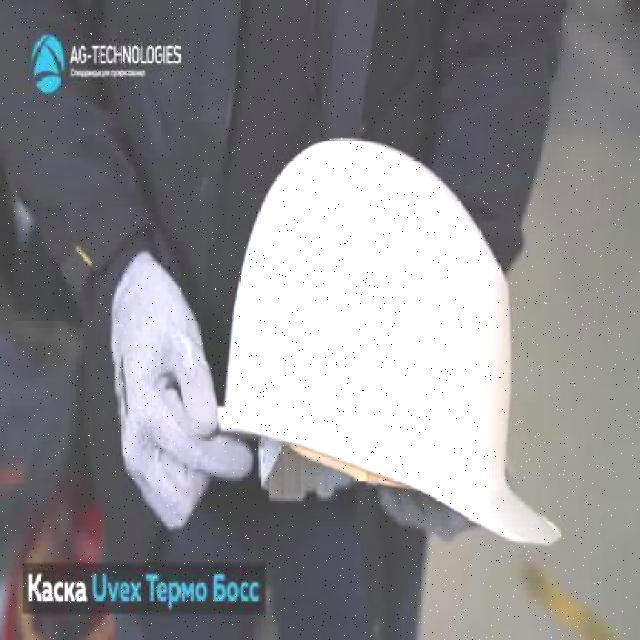Gloves: (108, 248, 256, 534)
Helmet: (213, 134, 562, 551)
